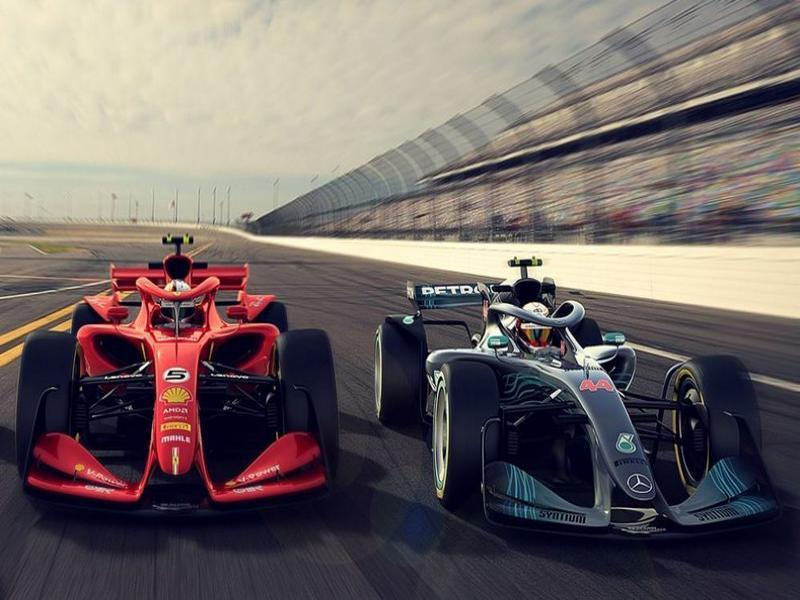f1: (365, 239, 799, 534), (25, 225, 339, 505)
